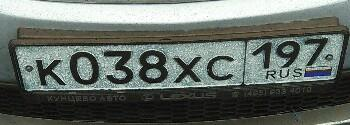license-plateSW: (15, 31, 347, 95)
